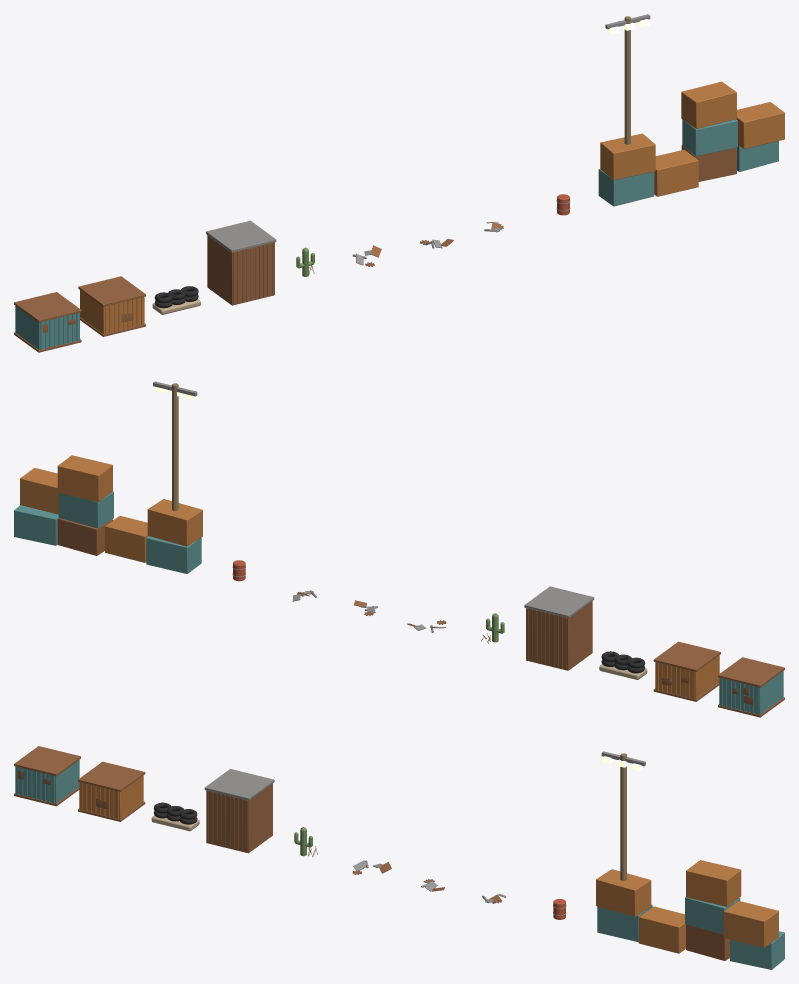
File: props-scrapyard.glb
The picture shows the model from 3 angles, top to bottom: view 1: azimuth 30°, elevation 25°; view 2: azimuth 150°, elevation 25°; view 3: azimuth 330°, elevation 25°; orthographic projection.
Visible parts, largest first — view 1: Grandstand, OuterWall, Wall, WallB, FloodTower, LowWall; view 2: Grandstand, OuterWall, Wall, WallB, FloodTower, LowWall; view 3: Grandstand, OuterWall, WallB, Wall, FloodTower, LowWall.
Part boxes in pixels (left/top/right/bottom): Grandstand: left=598, top=81, right=784, bottom=206; OuterWall: left=206, top=220, right=276, bottom=305; Wall: left=14, top=292, right=81, bottom=352; WallB: left=78, top=276, right=145, bottom=336; FloodTower: left=605, top=14, right=650, bottom=144; LowWall: left=152, top=286, right=200, bottom=314; Grandstand: left=14, top=455, right=202, bottom=573; OuterWall: left=524, top=586, right=594, bottom=670; Wall: left=718, top=657, right=784, bottom=717; WallB: left=653, top=641, right=720, bottom=701; FloodTower: left=153, top=381, right=197, bottom=510; LowWall: left=599, top=651, right=647, bottom=679; Grandstand: left=596, top=860, right=784, bottom=969; OuterWall: left=204, top=769, right=274, bottom=853; WallB: left=78, top=761, right=145, bottom=821; Wall: left=14, top=746, right=80, bottom=806; FloodTower: left=601, top=751, right=645, bottom=880; LowWall: left=151, top=802, right=199, bottom=831.
Size of the model in its own units: 17.5 by 4.06 by 1.08.
